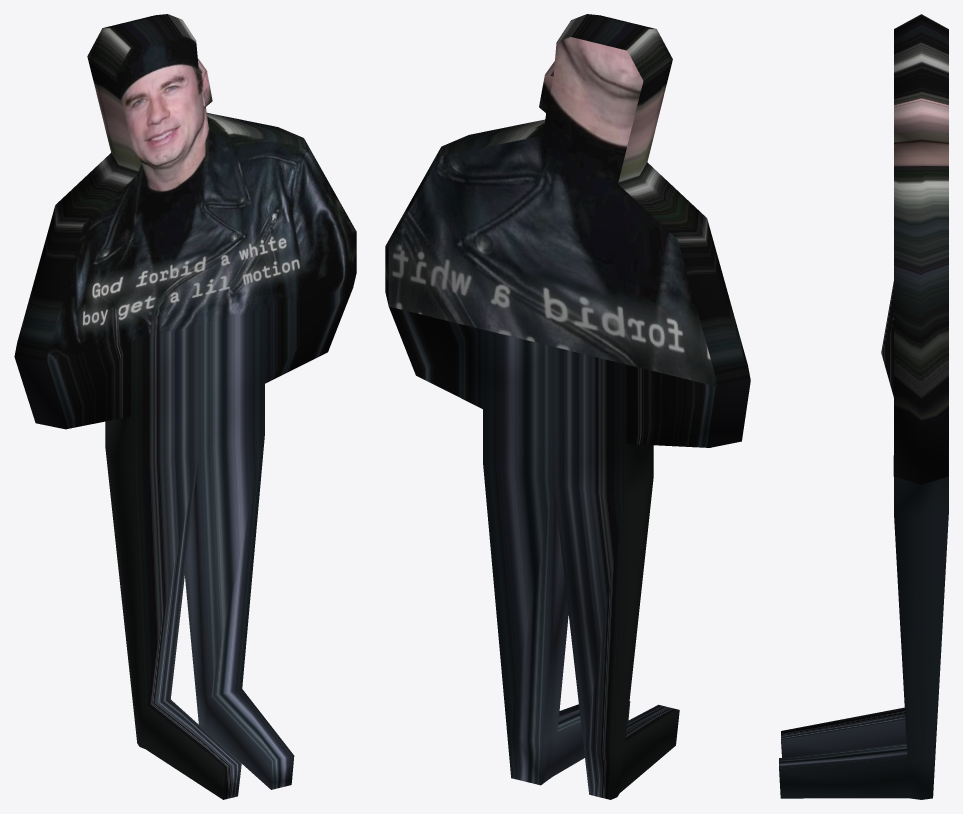
Rendered from john1.glb.
3 renders of one model, left to right at view 1: azimuth 30°, elevation 25°; view 2: azimuth 150°, elevation 25°; view 3: azimuth 270°, elevation 25°, orthographic. The views are drawn at different scales.
Visible parts, largest first — view 1: Screenshot 2025-09-27 163219; view 2: Screenshot 2025-09-27 163219; view 3: Screenshot 2025-09-27 163219.
Boxes of the visible parts, x1=… form: Screenshot 2025-09-27 163219: x1=14, y1=14, x2=356, y2=799; Screenshot 2025-09-27 163219: x1=385, y1=14, x2=750, y2=799; Screenshot 2025-09-27 163219: x1=779, y1=14, x2=948, y2=799.
Size of the model in its own units: 1.25 by 2.55 by 0.5373.
Materials: 1 (1 with a texture image).
